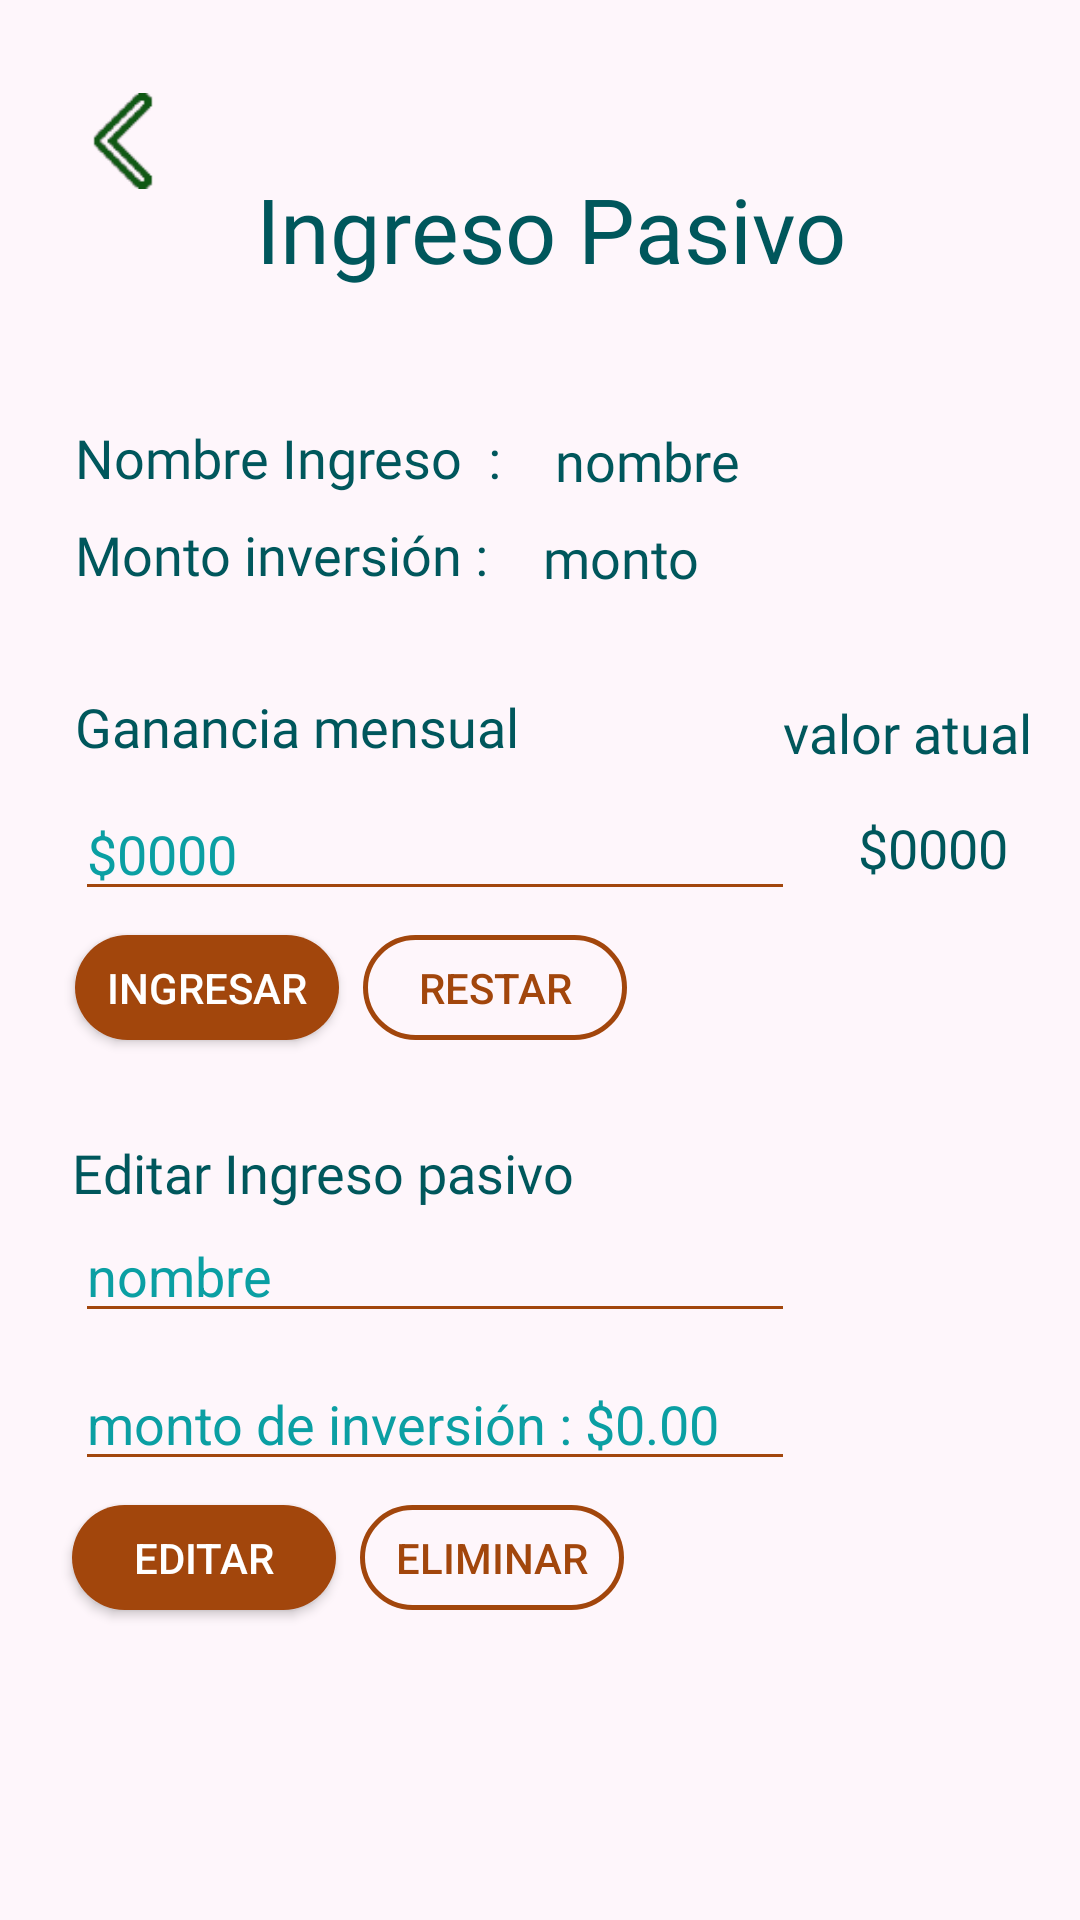

Icons on this 1080x1920 Android screen, each with the point to tap as point (x, y):
flecha: point (123, 141)
